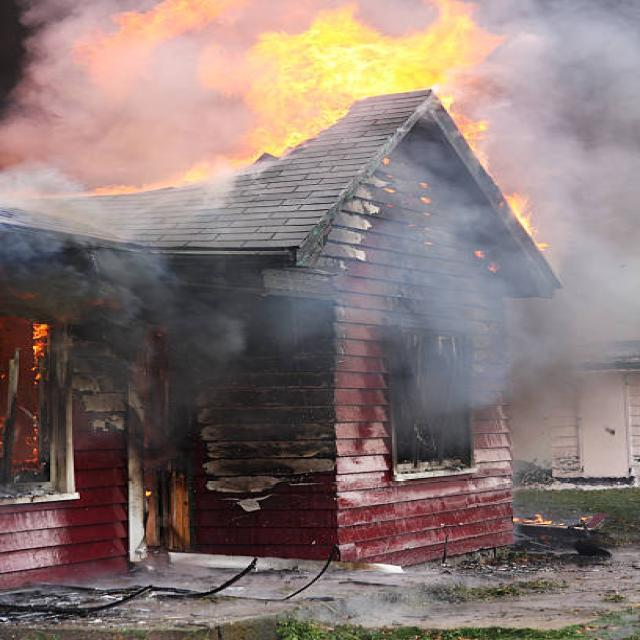Fire: (208, 0, 554, 260), (75, 0, 270, 94), (61, 156, 218, 200), (31, 315, 54, 389)
